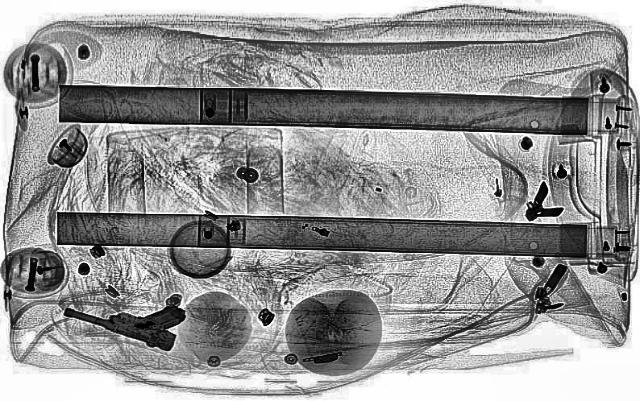Gun: (54, 279, 204, 353)
